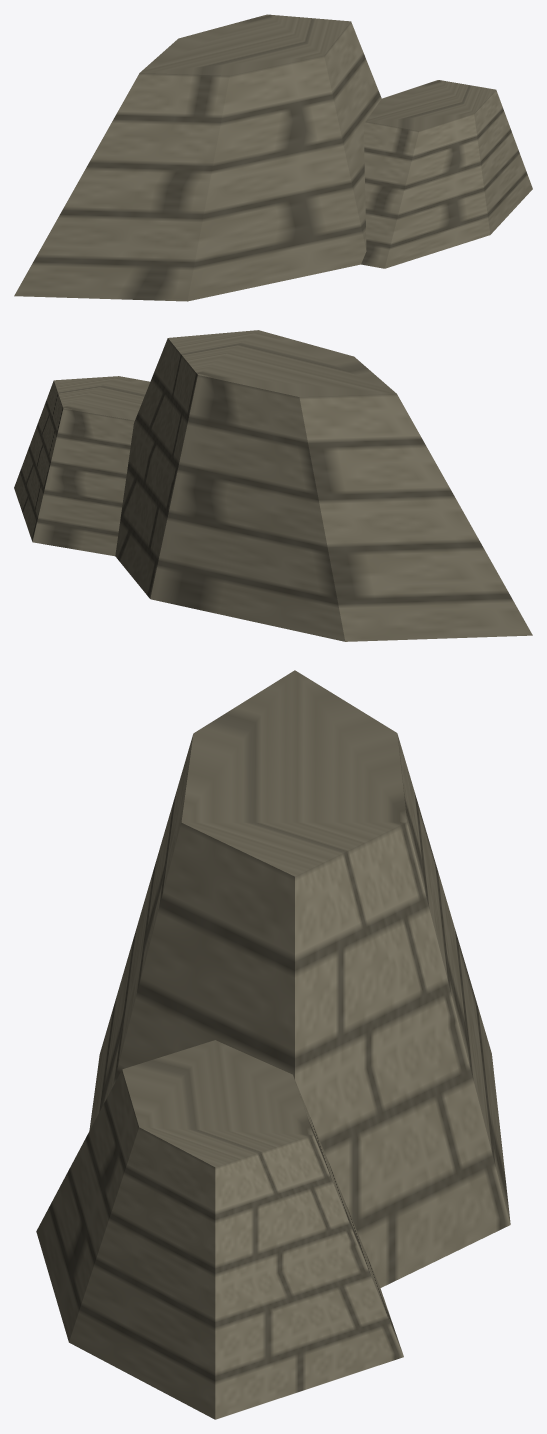
File: rock-ledge-lod1.glb
The picture shows the model from 3 angles, top to bottom: view 1: azimuth 30°, elevation 25°; view 2: azimuth 150°, elevation 25°; view 3: azimuth 270°, elevation 25°; orthographic projection. The views are drawn at different scales.
Bounding box in the file's own units: 0.8679 × 0.32 × 0.3573.
1 material, 1 textured.
